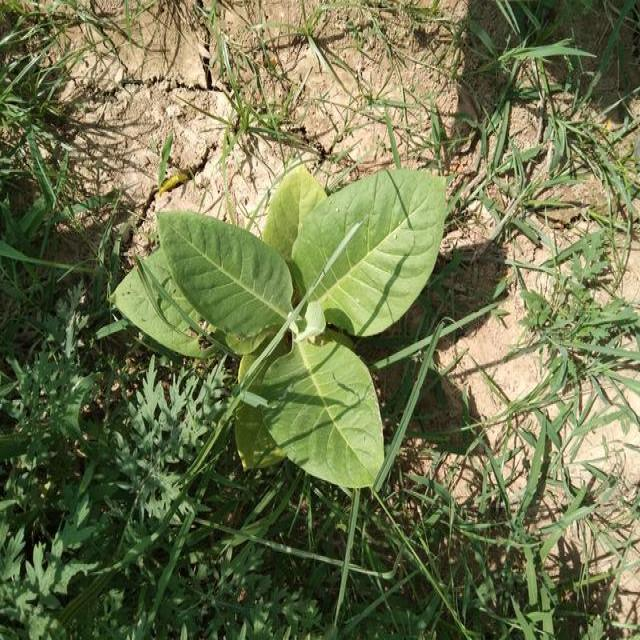crop: (121, 138, 448, 492)
